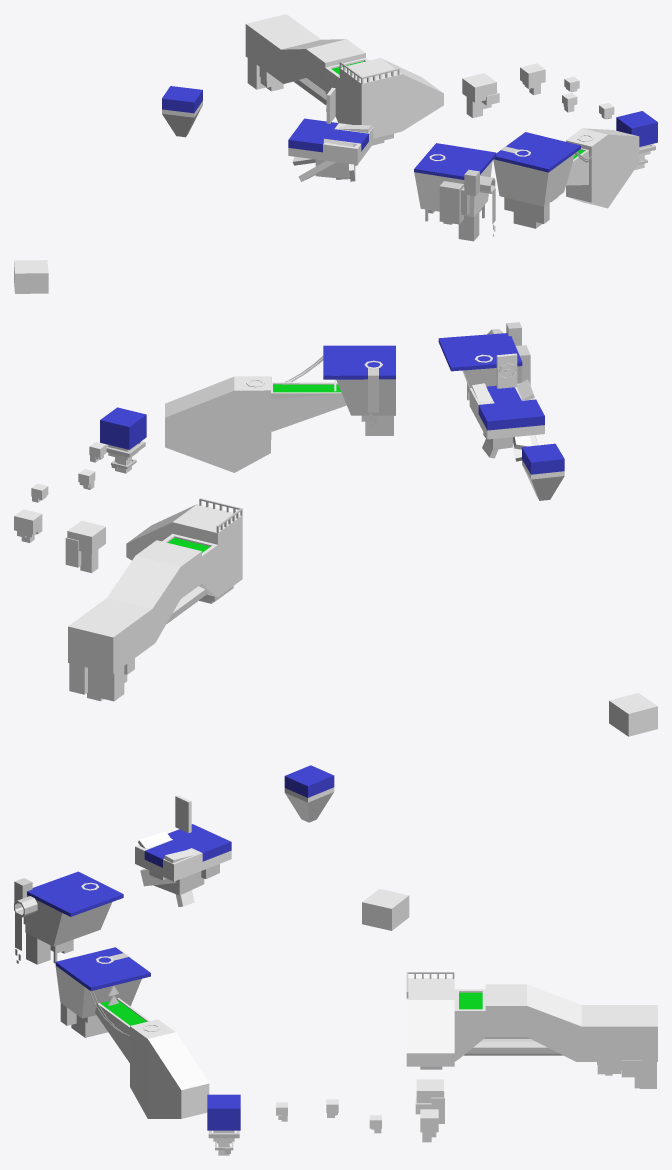
Rendered from SLEDGE_LevelOne_5.fbx.
3 views of the same model, one above another, from view 1: azimuth 30°, elevation 25°; view 2: azimuth 150°, elevation 25°; view 3: azimuth 270°, elevation 25° (orthographic). The views are drawn at different scales.
Parts seen in each view (by area): view 1: Cube (2), Cube (12), Cube (10), Cube (15), Cube (16), Cube (17), Cube (19), Cube (9), Cube.010, Cube.012, Cube (5), Cube.014 (+6 smaller); view 2: Cube (2), Cube (10), Cube (12), Cube (16), Cube (15), Cube (11), Cube (9), Cube (17), Cube.014, Cube (19), Cube (5), Cube (5).001 (+3 smaller); view 3: Cube (2), Cube (10), Cube (15), Cube (12), Cube (16), Cube (17), Cube (19), Cube (9), Cube (11), Cylinder.003, Cube.014, Cube.016 (+4 smaller).
Boxes of the visible parts, x1,y1,x2,y2 form: Cube (2): (245,14,443,138); Cube (12): (493,132,580,206); Cube (10): (566,128,639,208); Cube (15): (414,143,496,216); Cube (16): (288,118,373,164); Cube (17): (162,86,202,137); Cube (19): (14,260,48,293); Cube (9): (616,111,657,169); Cube.010: (504,197,557,228); Cube.012: (439,181,463,224); Cube (5): (462,73,496,102); Cube.014: (247,58,283,91); Cube (2): (68,504,242,673); Cube (10): (165,376,271,472); Cube (12): (323,345,395,415); Cube (16): (469,383,544,439); Cube (15): (438,333,522,388); Cube (11): (271,382,346,431); Cube (9): (100,407,146,473); Cube (17): (522,443,564,500); Cube.014: (69,658,134,701); Cube (19): (609,693,657,736); Cube (5): (67,520,105,553); Cube (5).001: (65,537,98,573); Cube (2): (406,978,657,1066); Cube (10): (130,1019,209,1118); Cube (15): (25,871,123,946); Cube (12): (55,947,150,1018); Cube (16): (135,824,231,881); Cube (17): (284,765,334,822); Cube (19): (362,888,409,930); Cube (9): (207,1094,240,1155); Cube (11): (95,998,149,1062); Cylinder.003: (464,1039,562,1055); Cube.014: (621,1060,656,1088); Cube.016: (149,864,219,895).
Bounding box in the file's own units: 23146 × 8380 × 21133.
